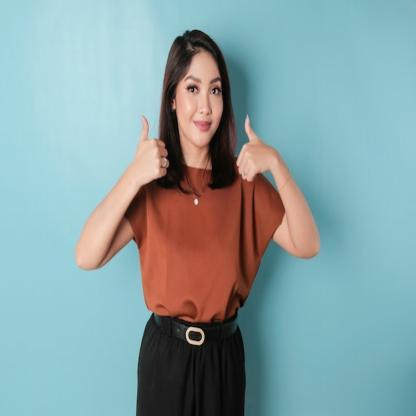thumb_up: (132, 112, 172, 188), (233, 110, 270, 185)
